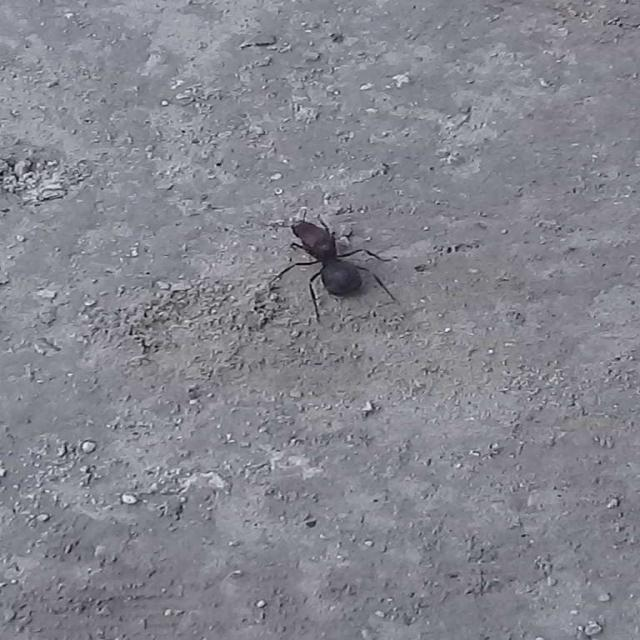Alive-Female-Dealate: (263, 200, 401, 324)
